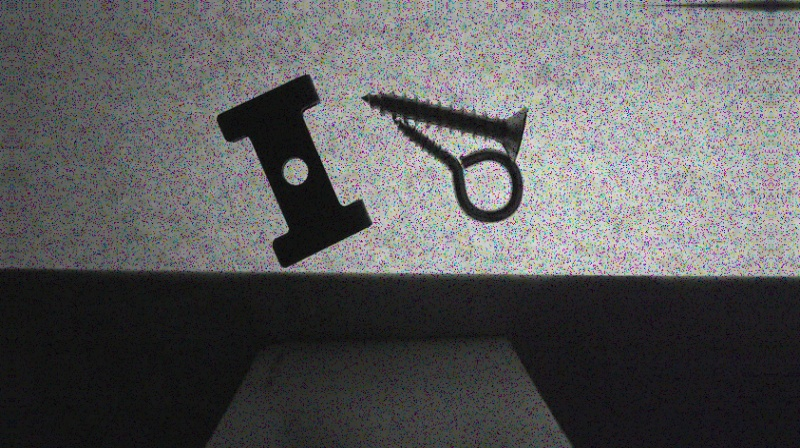O001: (392, 118, 523, 222)
O002: (214, 72, 373, 268)
S001: (359, 90, 527, 160)
